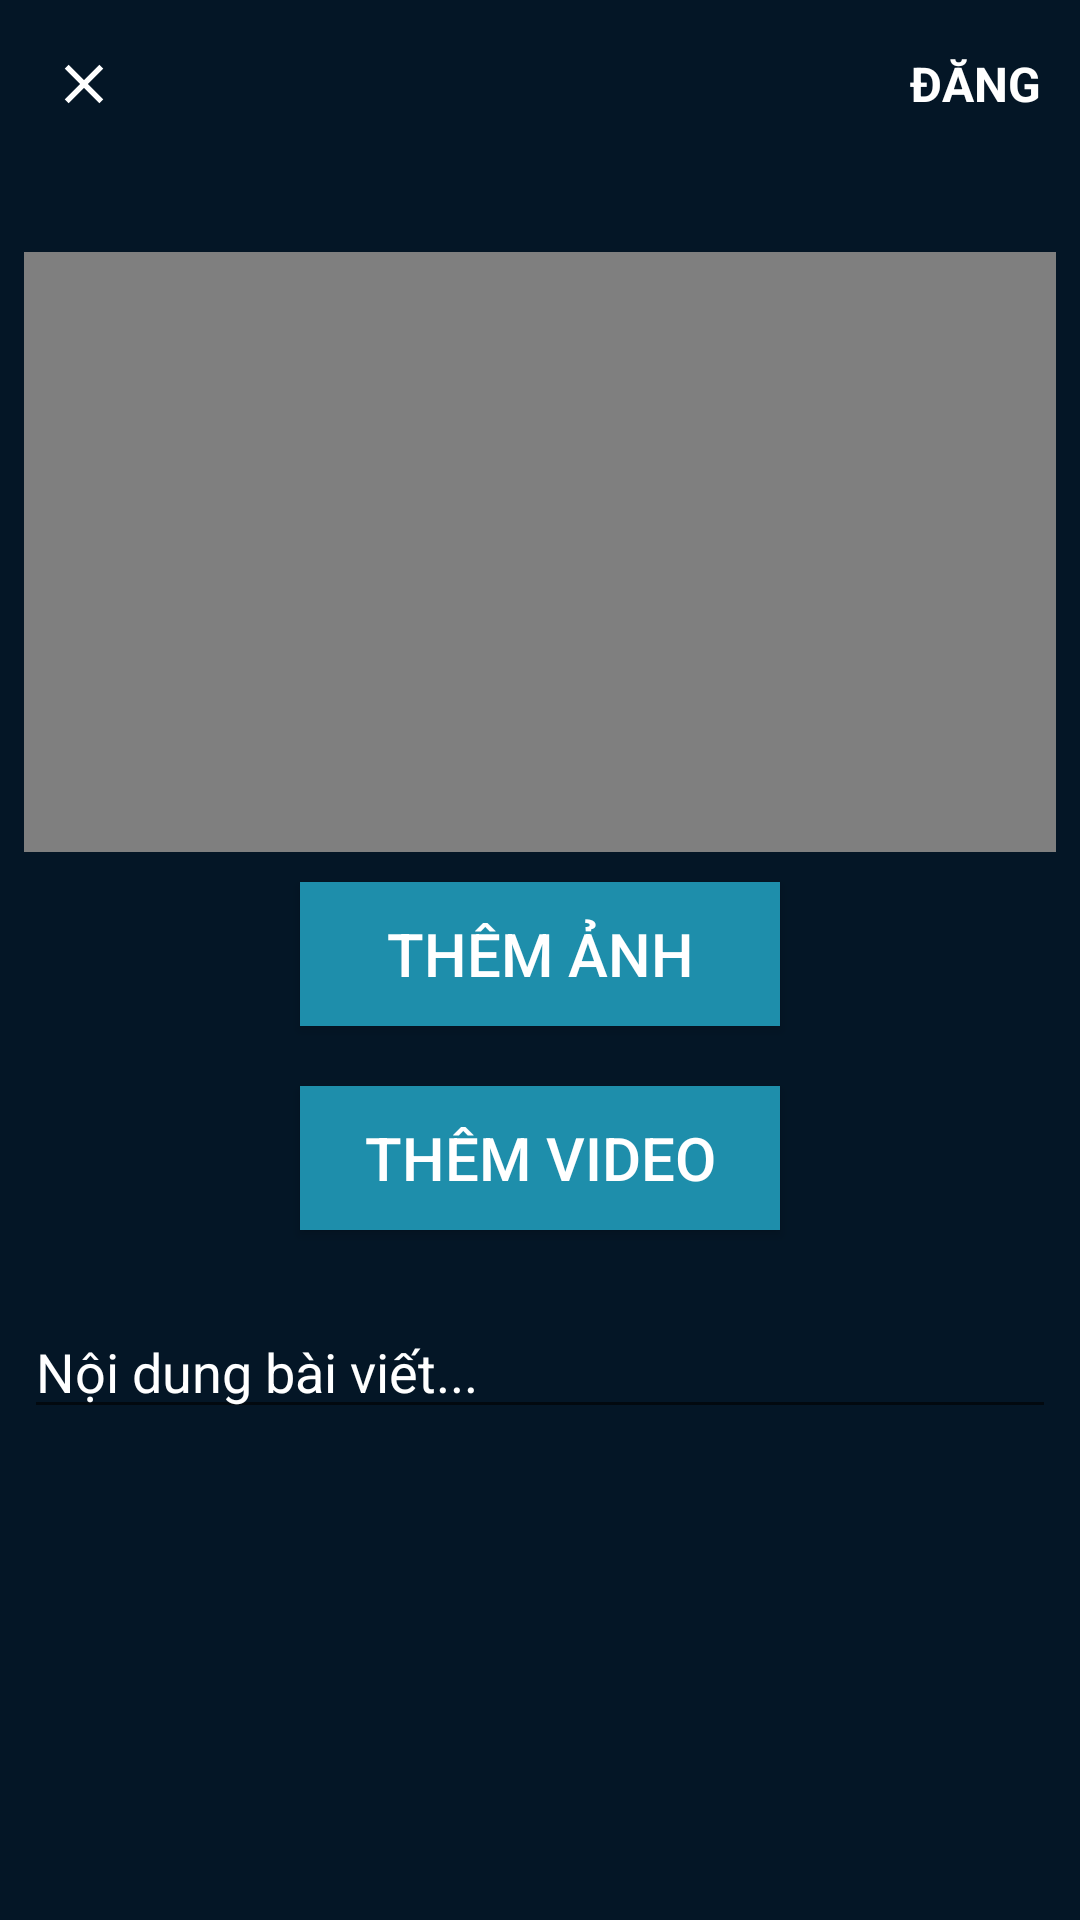

Screen size 1080x1920. Icon name, then its center in pixels as point (x, y):
close: point (84, 84)
